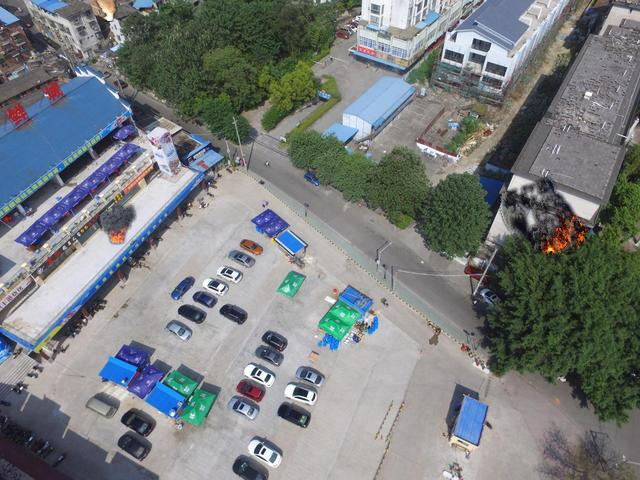fire: (497, 177, 589, 257), (98, 203, 135, 244), (95, 1, 117, 20)
